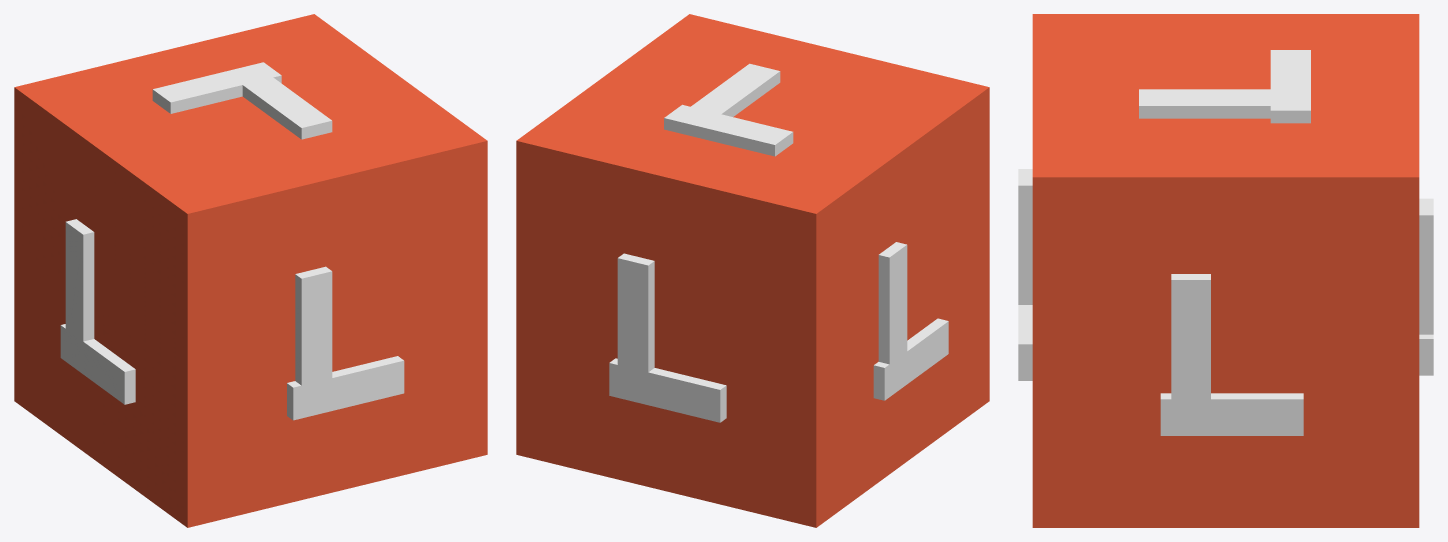
Rendered from DISTRACTOR_15.glb.
3 views of the same model, side by side, from view 1: azimuth 30°, elevation 25°; view 2: azimuth 150°, elevation 25°; view 3: azimuth 270°, elevation 25° (orthographic). The views are drawn at different scales.
Parts seen in each view (by area): view 1: DISTRACTOR_HIGH_15; view 2: DISTRACTOR_HIGH_15; view 3: DISTRACTOR_HIGH_15.
Boxes of the visible parts, x1,y1,x2,y2 form: DISTRACTOR_HIGH_15: [14, 14, 487, 527]; DISTRACTOR_HIGH_15: [516, 14, 989, 527]; DISTRACTOR_HIGH_15: [1018, 14, 1433, 527].
Bounding box in the file's own units: 2.15 × 2.15 × 2.15.
